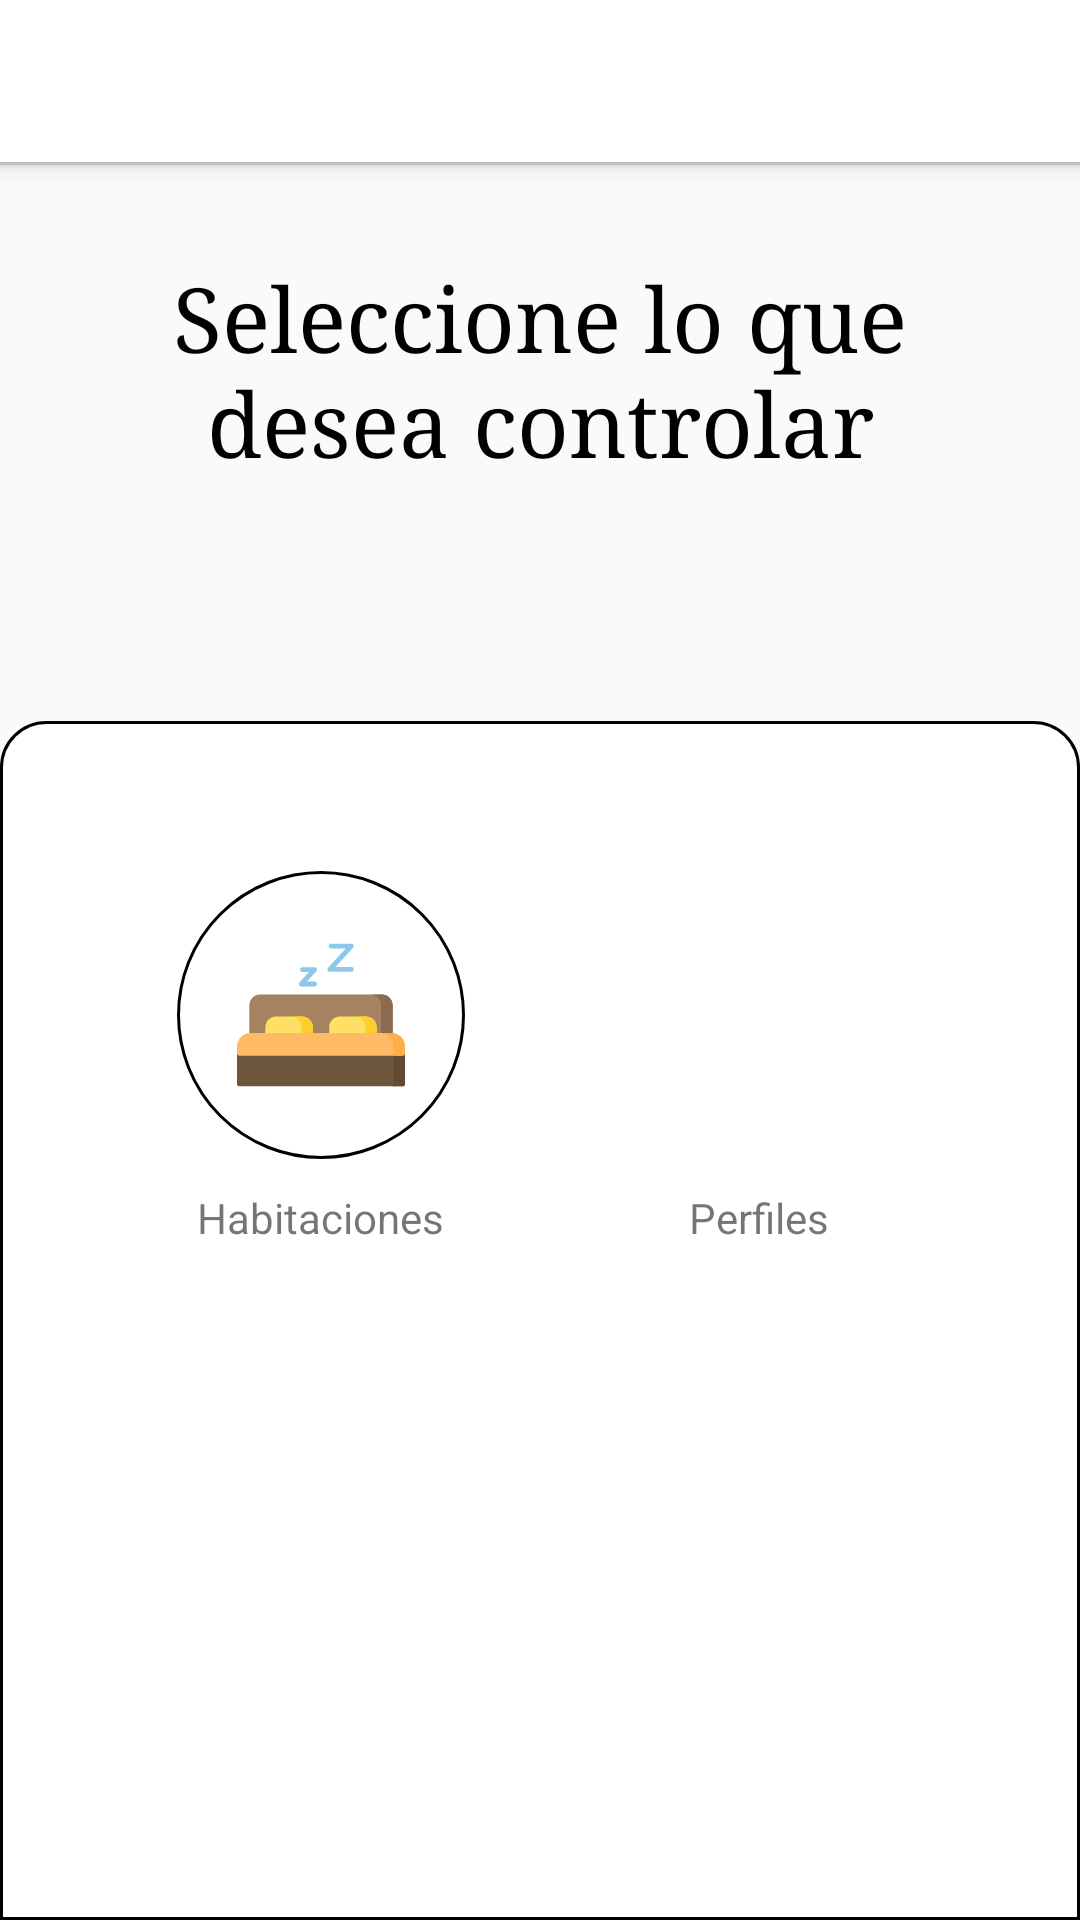

Locate icon controls on the screen. Image size 1080*1920, boxes as box=[x1, y1, x2, y2].
bed: box=[177, 871, 465, 1159]
